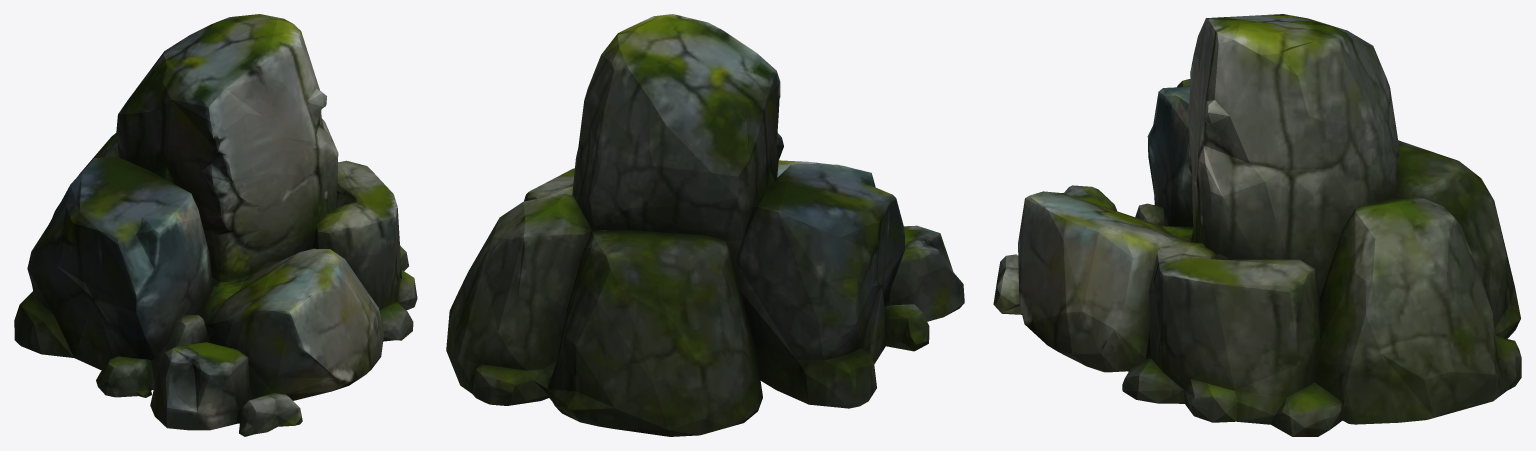
Rendered from boulders.glb.
3 renders of one model, left to right at view 1: azimuth 30°, elevation 25°; view 2: azimuth 150°, elevation 25°; view 3: azimuth 270°, elevation 25°, orthographic. The views are drawn at different scales.
Parts seen in each view (by area): view 1: geometry_0; view 2: geometry_0; view 3: geometry_0.
Boxes of the visible parts, x1=… form: geometry_0: x1=14, y1=14, x2=417, y2=436; geometry_0: x1=446, y1=14, x2=964, y2=436; geometry_0: x1=993, y1=14, x2=1521, y2=436.
Bounding box in the file's own units: 1.35 × 0.9918 × 1.42.
1 material, 1 textured.
